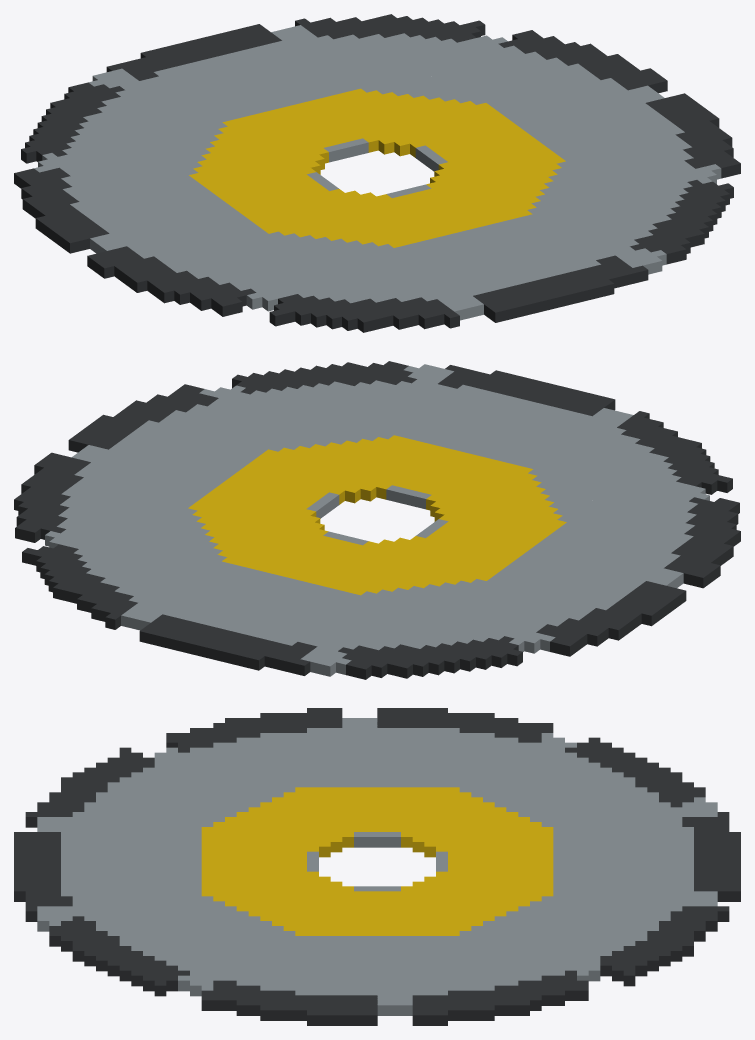
Rendered from grinder_blade.glb.
The picture shows the model from 3 angles, top to bottom: view 1: azimuth 30°, elevation 25°; view 2: azimuth 150°, elevation 25°; view 3: azimuth 270°, elevation 25°; orthographic projection. The views are drawn at different scales.
Parts seen in each view (by area): view 1: grinder_blade:compound; view 2: grinder_blade:compound; view 3: grinder_blade:compound.
Boxes of the visible parts, box(x1,y1,x2,y2) form: grinder_blade:compound: box(14, 14, 740, 332); grinder_blade:compound: box(14, 361, 740, 679); grinder_blade:compound: box(14, 708, 740, 1025).
Bounding box in the file's own units: 0.124 × 0.002 × 0.124.
